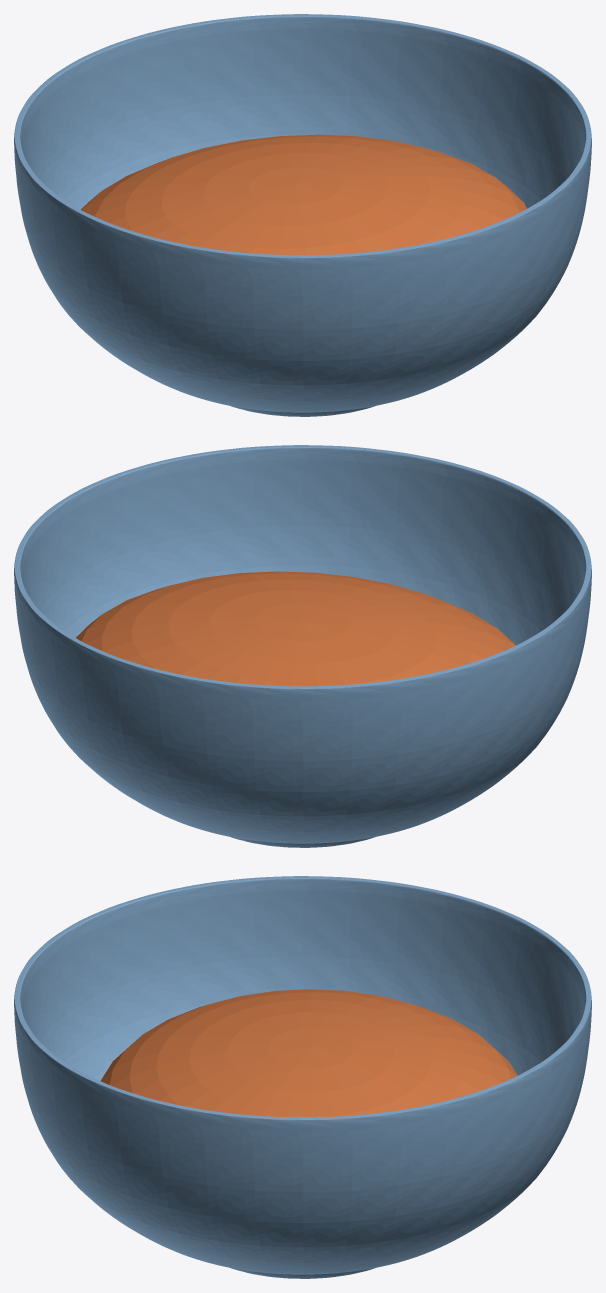
File: dip.fbx
3 renders of one model, top to bottom at view 1: azimuth 30°, elevation 25°; view 2: azimuth 150°, elevation 25°; view 3: azimuth 270°, elevation 25°, orthographic.
Visible parts, largest first — view 1: Cylinder05, Sphere; view 2: Cylinder05, Sphere; view 3: Cylinder05, Sphere.
Part boxes in pixels (left/top/right/bottom): Cylinder05: left=14, top=14, right=591, bottom=416; Sphere: left=81, top=134, right=526, bottom=255; Cylinder05: left=14, top=445, right=591, bottom=847; Sphere: left=76, top=571, right=515, bottom=686; Cylinder05: left=14, top=876, right=591, bottom=1278; Sphere: left=101, top=989, right=517, bottom=1117.
Size of the model in its own units: 118 by 52.76 by 118.
